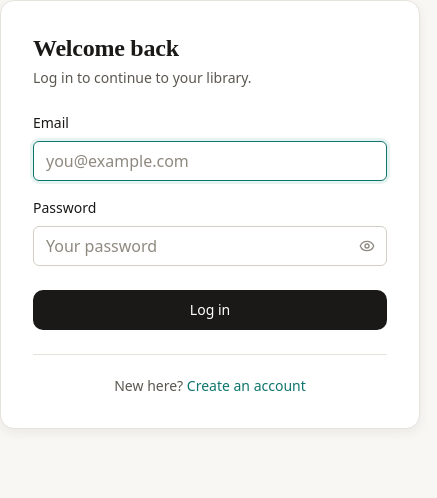
LoginPage › shows validation errors when fields are empty
Click the button "Log in": (210,310) [33,290,387,330]
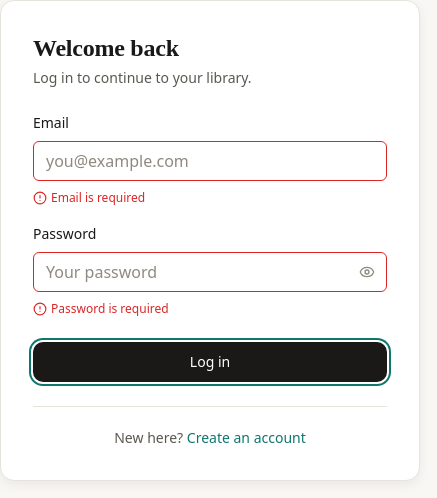
Now the text "Email is required" is shown, box [33,189,145,207]
Now the text "Password is required" is shown, box [33,300,169,318]
